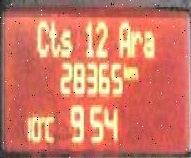0: (30, 111, 40, 142)
1: (84, 16, 94, 56), (26, 113, 30, 138)
2: (94, 18, 108, 56), (59, 60, 70, 93)
3: (85, 60, 96, 91)
4: (102, 104, 116, 140)
5: (88, 102, 101, 142), (110, 60, 121, 93)
6: (98, 60, 109, 91)
8: (71, 58, 84, 93)
9: (69, 102, 84, 142)
X: (117, 18, 130, 56), (36, 18, 47, 56), (49, 18, 59, 56), (141, 27, 154, 56), (60, 25, 71, 56), (130, 27, 141, 53), (44, 113, 54, 140), (128, 64, 138, 78), (122, 60, 127, 78)
